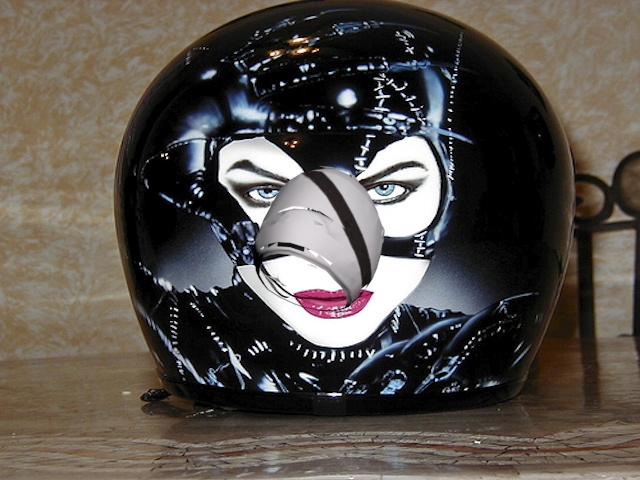bike_helmet: (249, 161, 392, 312)
